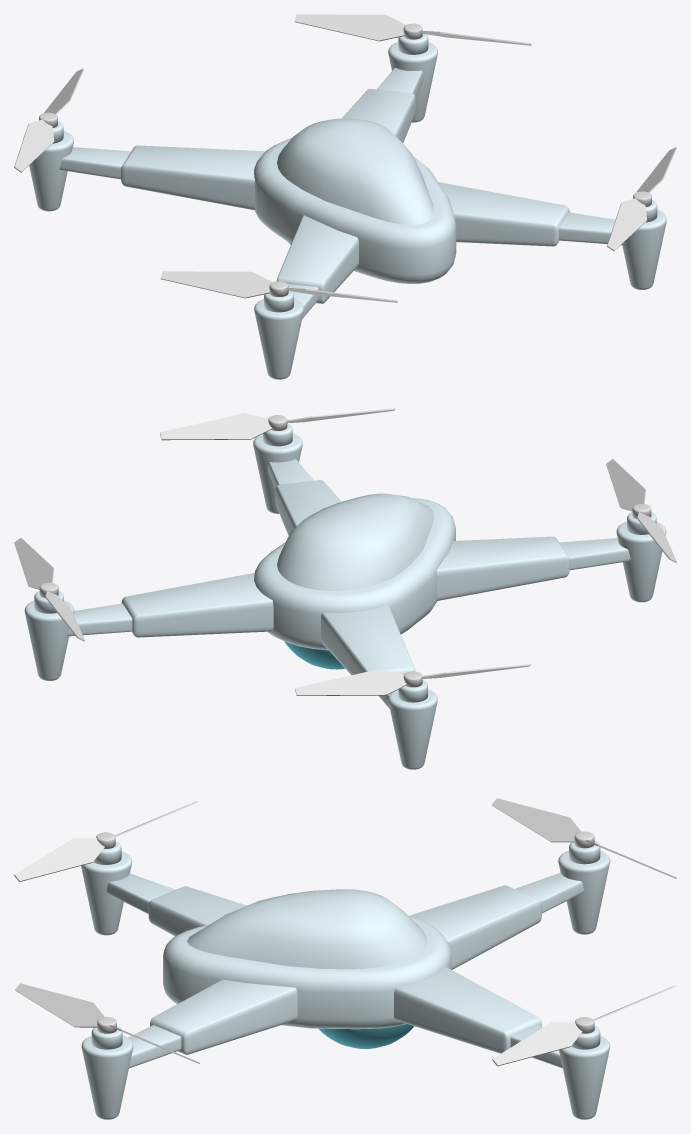
Rendered from worker_drone.gltf.
3 views of the same model, one above another, from view 1: azimuth 30°, elevation 25°; view 2: azimuth 150°, elevation 25°; view 3: azimuth 270°, elevation 25° (orthographic). The views are drawn at different scales.
Visible parts, largest first — view 1: body, arm_front_left, arm_rear_right, arm_rear_left, arm_front_right, propeller_front_right, propeller_rear_left, propeller_rear_right, propeller_front_left; view 2: body, arm_front_right, arm_rear_left, arm_front_left, arm_rear_right, propeller_front_left, propeller_rear_right, propeller_rear_left, propeller_front_right, generator; view 3: body, arm_rear_right, arm_front_right, arm_front_left, arm_rear_left, propeller_front_left, propeller_rear_right, propeller_front_right, propeller_rear_left, generator.
Boxes of the visible parts, x1,y1,x2,y2 form: body: (254, 118, 456, 283); arm_front_left: (29, 121, 265, 211); arm_rear_right: (438, 182, 666, 289); arm_rear_left: (254, 215, 358, 379); arm_front_right: (342, 34, 437, 142); propeller_front_right: (294, 14, 531, 45); propeller_rear_left: (160, 271, 397, 302); propeller_rear_right: (607, 147, 676, 251); propeller_front_left: (14, 68, 83, 172); body: (254, 493, 455, 650); arm_front_right: (24, 573, 273, 680); arm_rear_left: (436, 512, 666, 602); arm_front_left: (321, 605, 437, 769); arm_rear_right: (253, 423, 341, 535); propeller_front_left: (295, 664, 530, 695); propeller_rear_right: (160, 408, 395, 440); propeller_rear_left: (606, 459, 676, 562); propeller_front_right: (14, 538, 84, 641); generator: (284, 641, 344, 669); body: (163, 889, 451, 1029); arm_rear_right: (81, 979, 297, 1119); arm_front_right: (394, 967, 610, 1119); arm_front_left: (409, 840, 610, 969); arm_rear_left: (81, 841, 246, 935); propeller_front_left: (491, 798, 676, 878); propeller_rear_right: (15, 983, 199, 1063); propeller_front_right: (492, 985, 676, 1066); propeller_rear_left: (14, 801, 198, 881); generator: (318, 1024, 413, 1048).
Size of the model in its own units: 3.42 by 0.8681 by 3.64.
